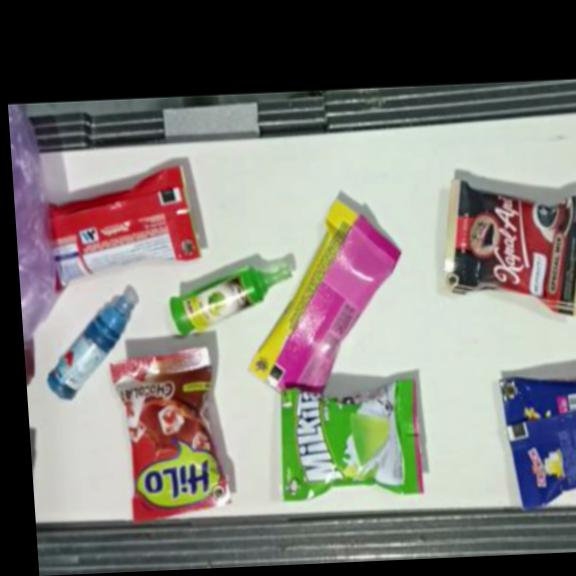Plastik: (235, 195, 410, 403), (109, 345, 232, 522), (42, 163, 203, 294), (438, 171, 576, 322), (275, 377, 425, 499), (7, 104, 62, 339), (497, 366, 576, 512), (40, 293, 140, 401), (166, 261, 294, 333)
